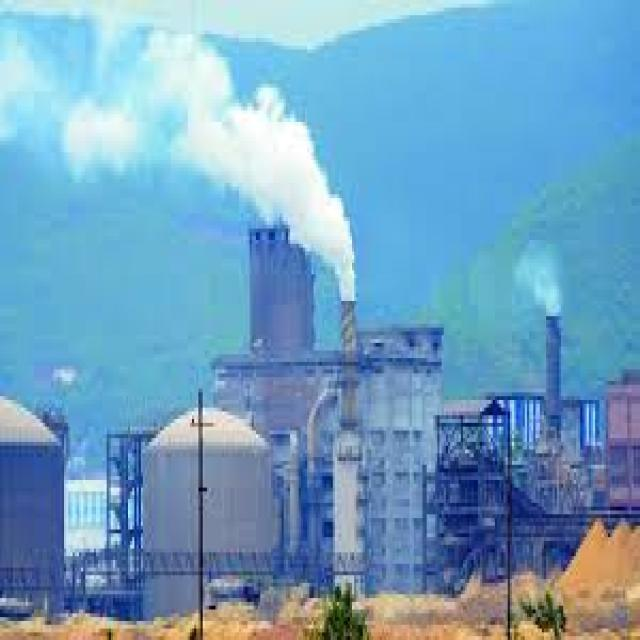Smoke: (64, 37, 356, 300)
